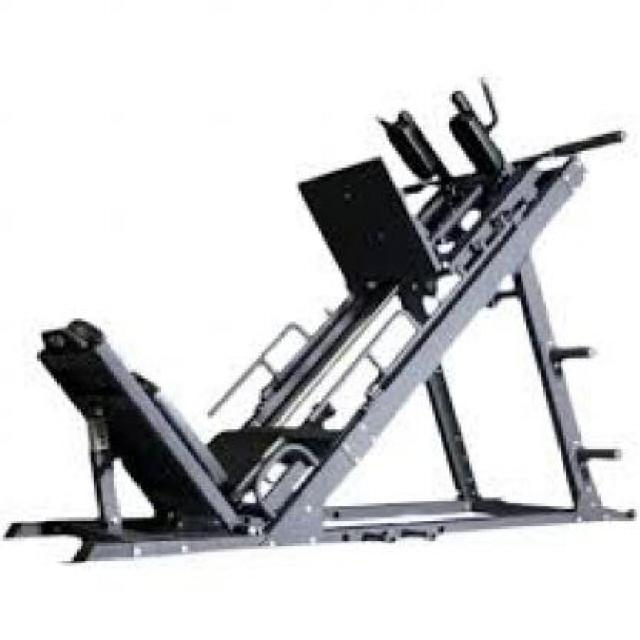leg press: (0, 60, 640, 577)
